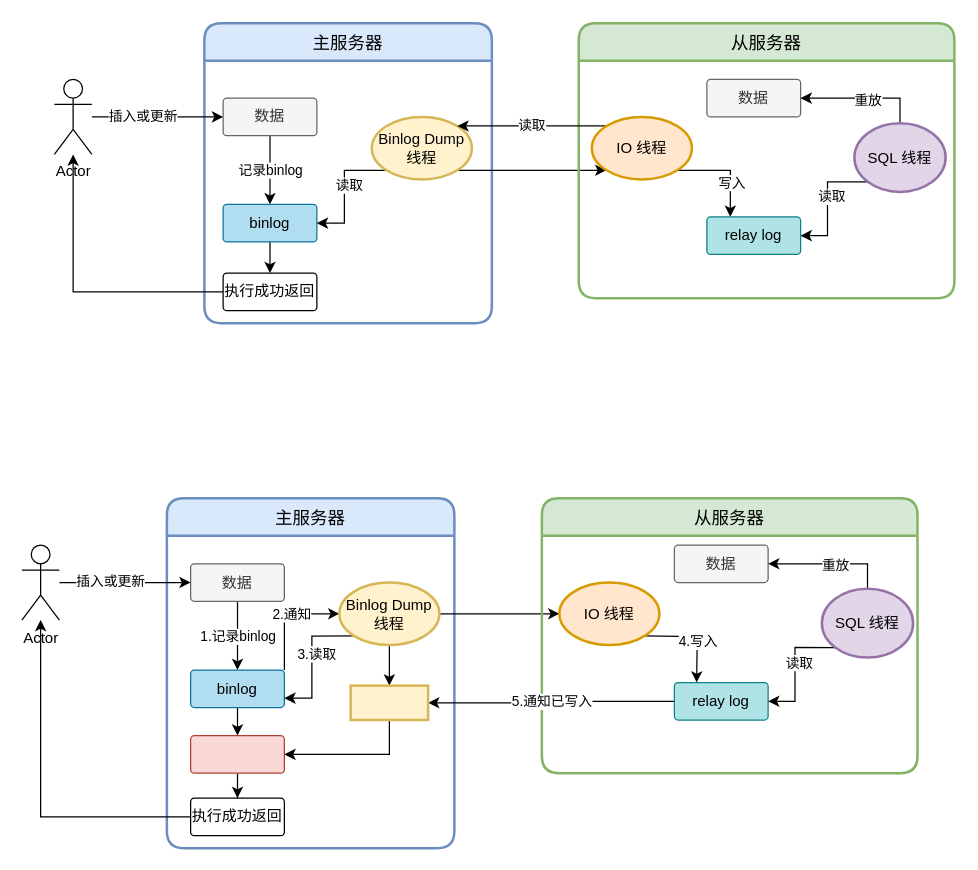
Image size: 978x870. Some labels were removed from this diagram. The shapes that lost their labels are listed below. From the top down, each one's centre as x and y in pixels, then its label:
At point (389, 702): "等待响应".
At point (236, 753): "等待".
